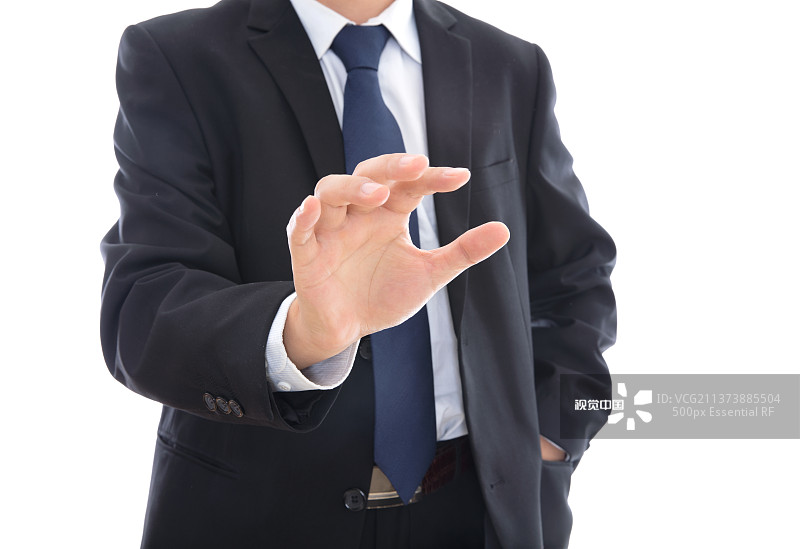no-phone: (264, 137, 520, 366)
